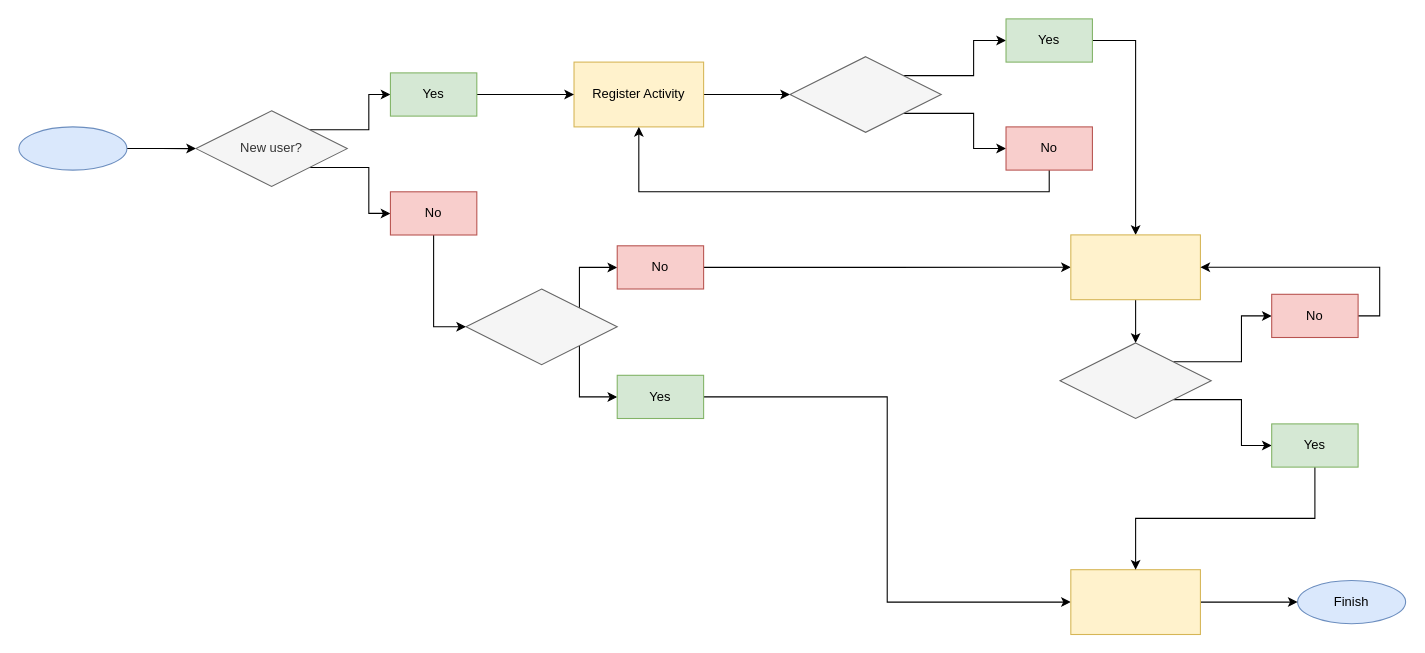
Some shapes in this 1425 by 653 pixel diagram are drawn without their labels. The centre of each missing label's shape, as x and y in pixels:
"Login Activity" goes at [1135,267].
"Main Activity" goes at [1135,601].
"Start" goes at [72,148].
"Successful login?" goes at [1135,380].
"Successful registration?" goes at [865,94].
"User logged in?" goes at [541,326].
